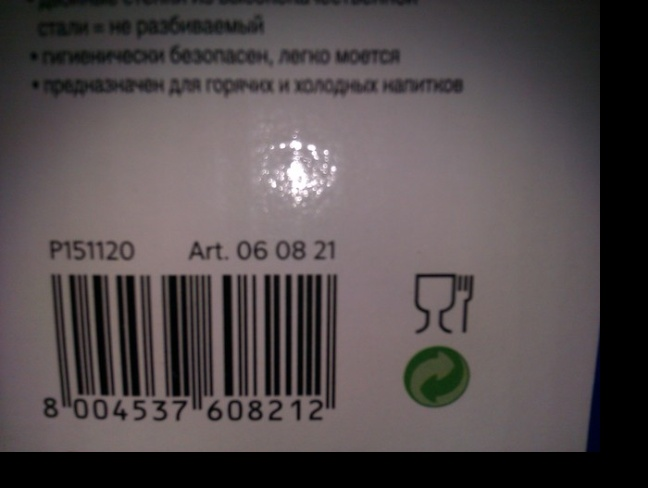Barkod: (30, 265, 360, 434)
